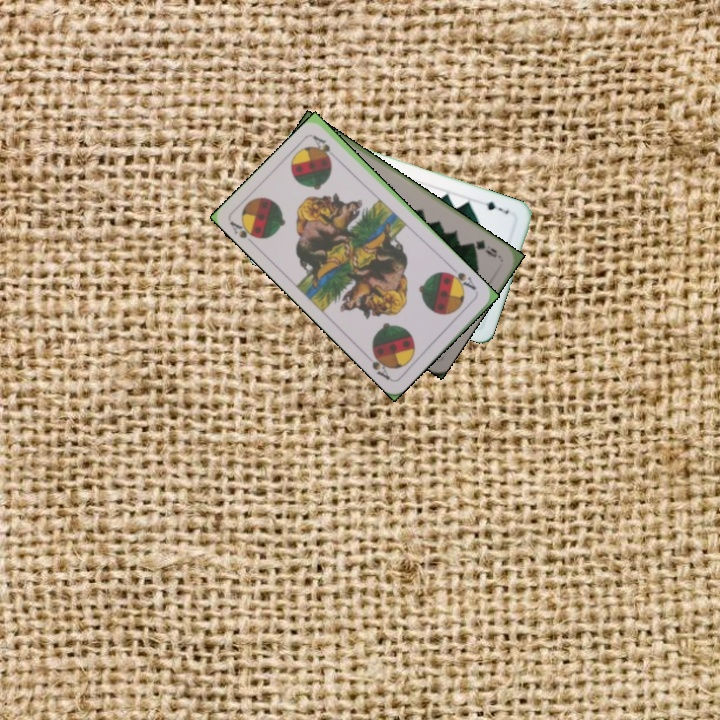G7: (482, 197, 512, 216)
G9: (465, 235, 503, 261)
SA: (443, 263, 479, 293), (226, 215, 264, 242)
